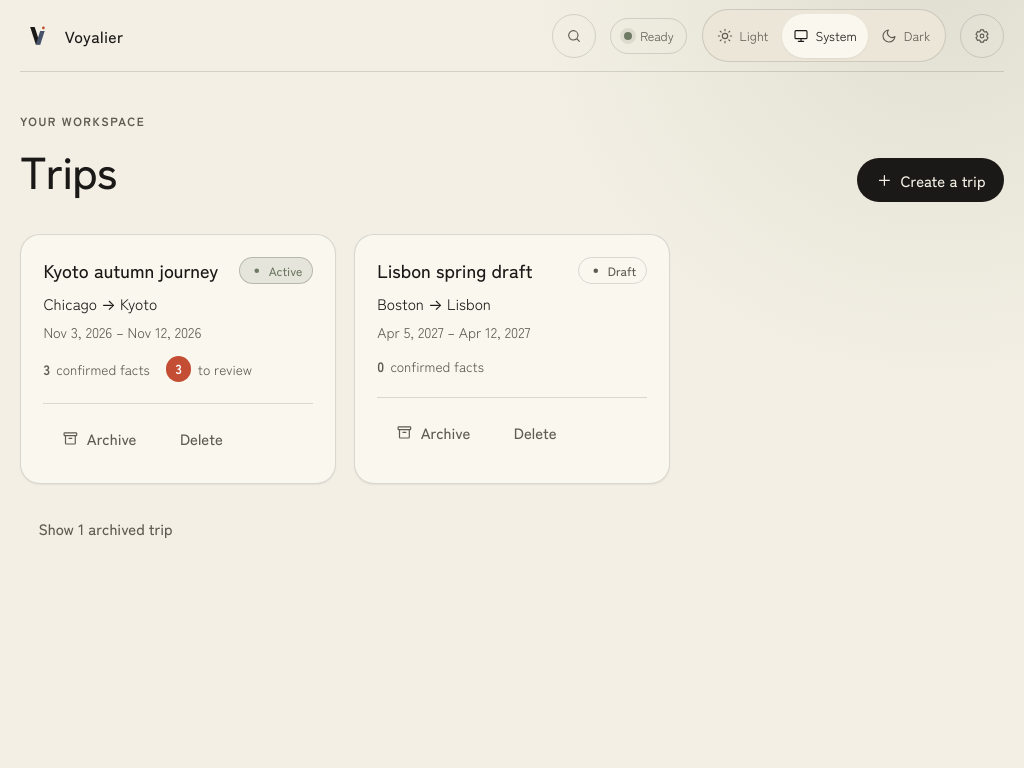
Scenario: Map panel › fetches nothing until asked, then requests places and the offline map on consent
This screenshot has width=1024, height=768.
Click the button with aria-label "Open Kyoto autumn journey": x=131, y=270 43,257 -> 218,283
(page scrolled)
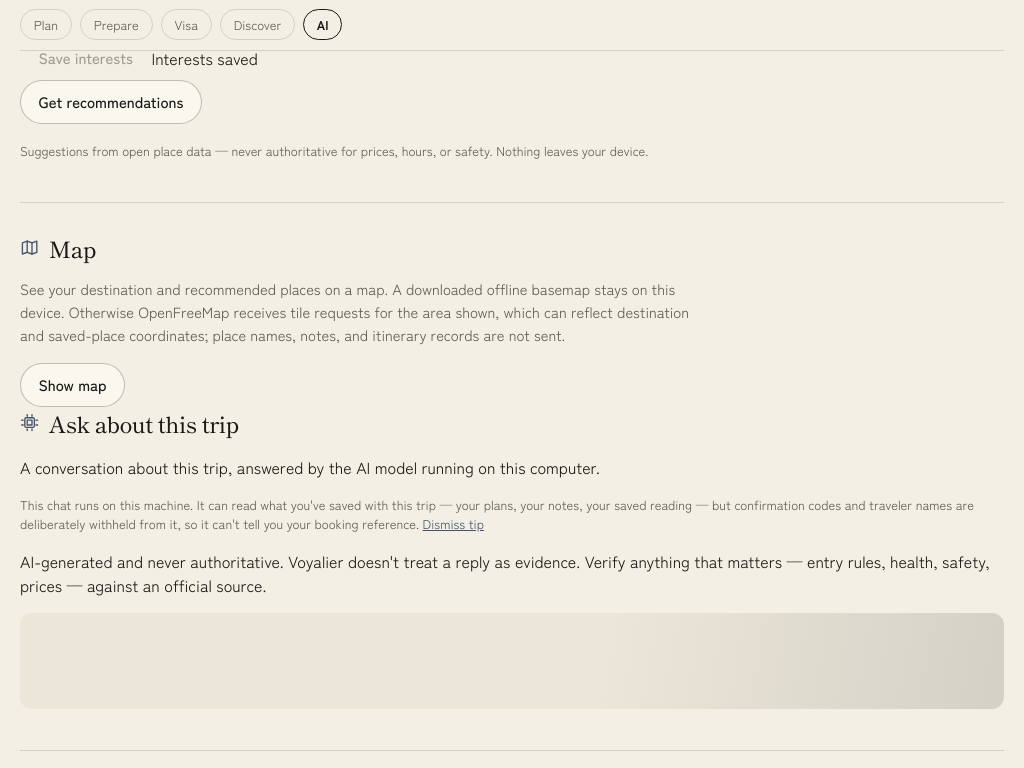
Click the button "Show map": x=73, y=384 20,362 -> 125,406
(page scrolled)
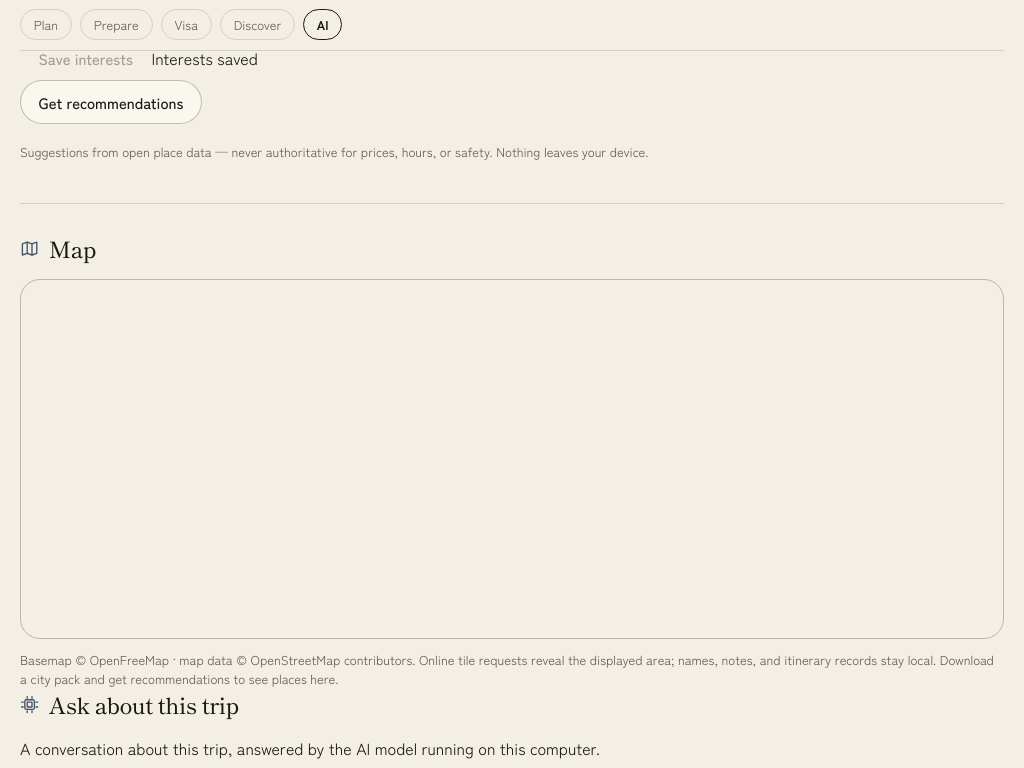
Now the element named "Trip map" is shown, box 20,279 -> 1004,639
Now the text "Online tile requests reveal the displayed area" is shown, box 20,650 -> 936,669
Now the button "Show map" is gone
